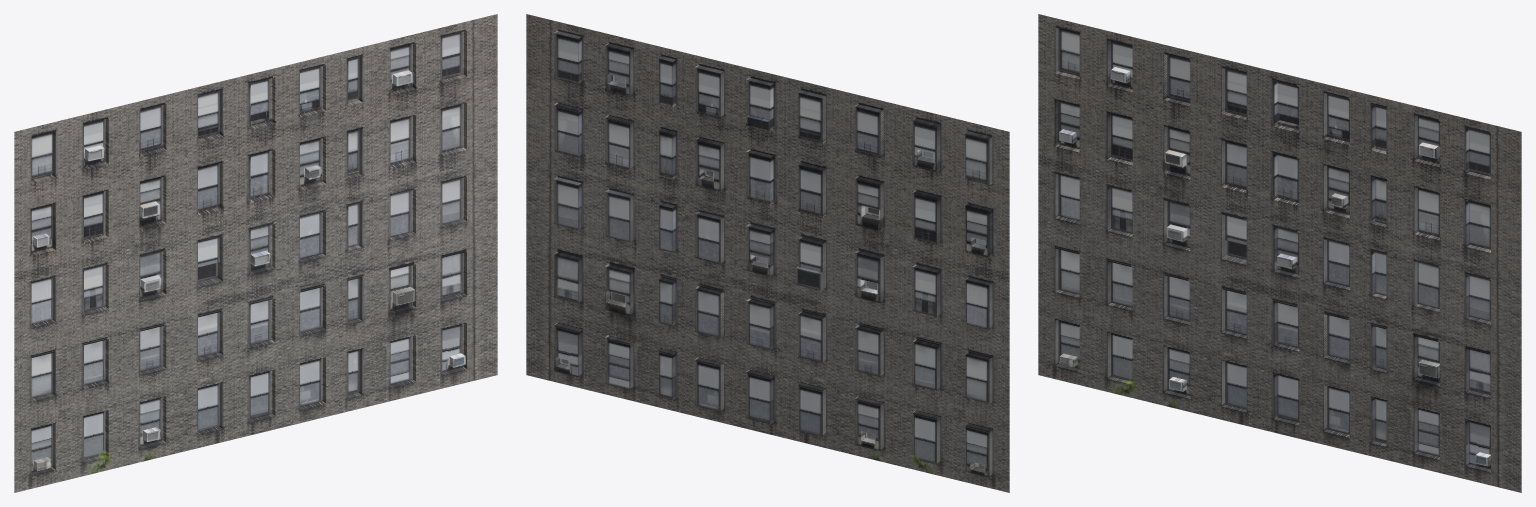
Rendered from Building_3.FBX.
The picture shows the model from 3 angles, left to right: view 1: azimuth 30°, elevation 25°; view 2: azimuth 150°, elevation 25°; view 3: azimuth 330°, elevation 25°; orthographic projection.
Parts seen in each view (by area): view 1: Box005; view 2: Box005; view 3: Box005.
Boxes of the visible parts, x1=… form: Box005: x1=14, y1=14, x2=497, y2=492; Box005: x1=526, y1=14, x2=1009, y2=492; Box005: x1=1038, y1=14, x2=1521, y2=492.
Bounding box in the file's own units: 16.85 × 12.04 × 0.3578.
1 material, 1 textured.
